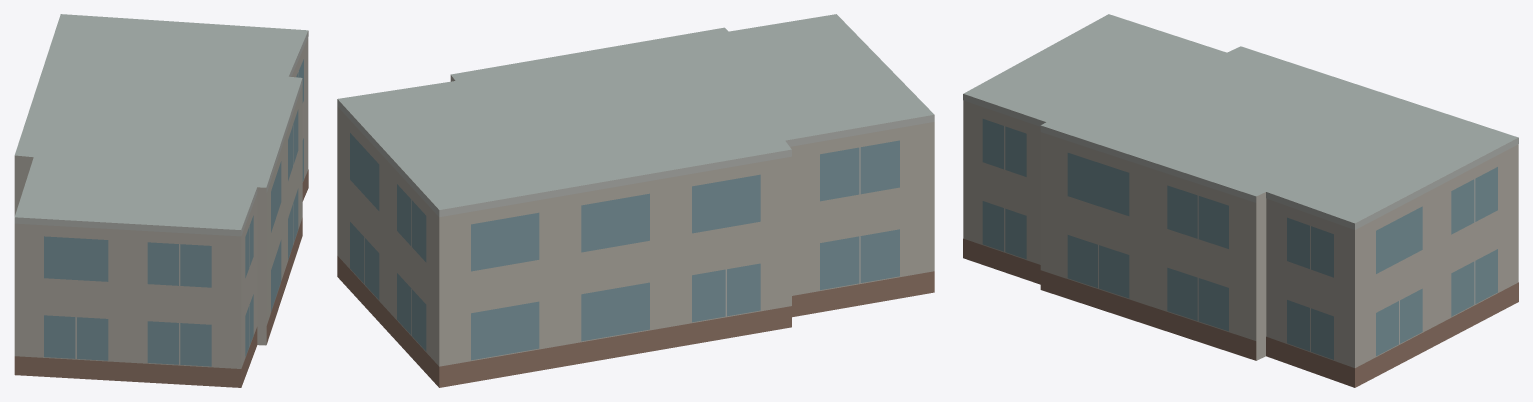
File: survey-upis-32885549.glb
The picture shows the model from 3 angles, left to right: view 1: azimuth 30°, elevation 25°; view 2: azimuth 150°, elevation 25°; view 3: azimuth 270°, elevation 25°; orthographic projection. The views are drawn at different scales.
Visible parts, largest first — view 1: survey-upis-32885549.tmp; view 2: survey-upis-32885549.tmp; view 3: survey-upis-32885549.tmp.
Boxes of the visible parts, x1,y1,x2,y2 form: survey-upis-32885549.tmp: [14, 14, 308, 387]; survey-upis-32885549.tmp: [337, 14, 934, 387]; survey-upis-32885549.tmp: [963, 14, 1518, 387].
Bounding box in the file's own units: 16.68 × 6.1 × 18.69.
